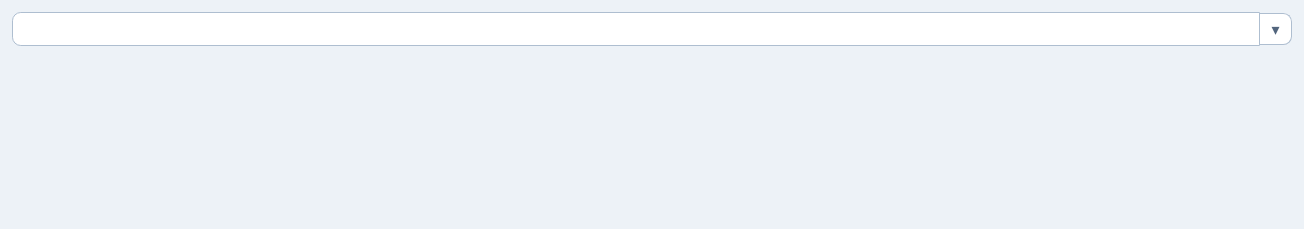
Test: shows newest editable values before older ones and before immutable presets
Click the button named "Показать сохранённые варианты: Наименование". click: (1276, 29)
box: [1260,13,1292,45]
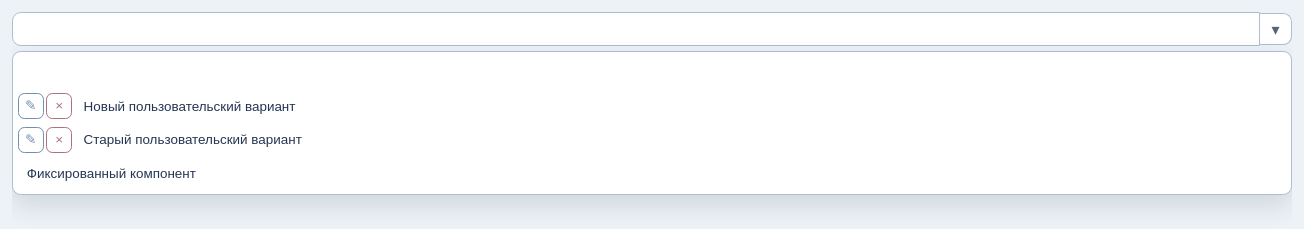
expect the button named "Изменить значение" is shown: met, box [18,93,44,119]
